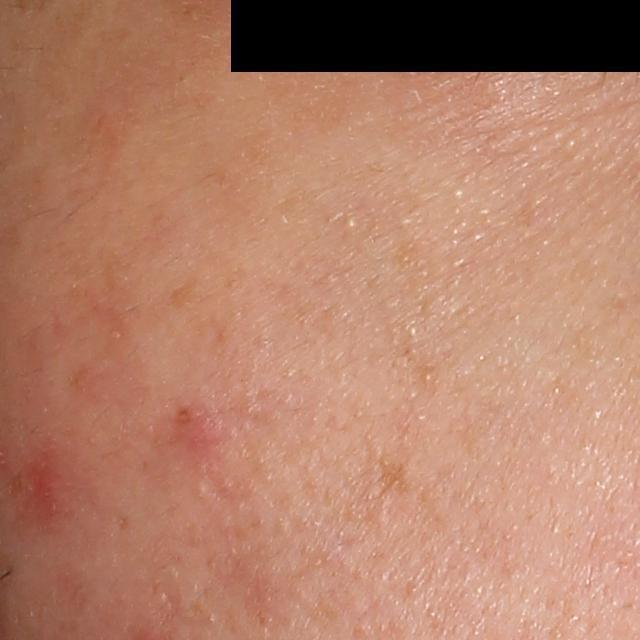comedo: (343, 212, 363, 231)
melasma: (375, 448, 413, 504)
papule: (28, 455, 67, 523), (168, 401, 225, 444)
